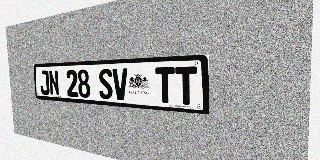2: (66, 70, 78, 97)
8: (77, 69, 90, 98)
J: (39, 70, 50, 95)
N: (48, 70, 59, 96)
S: (98, 69, 113, 99)
T: (175, 66, 197, 105), (155, 67, 175, 104)
V: (112, 68, 128, 101)
